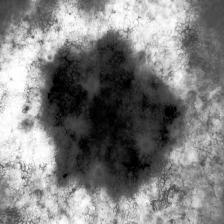Benign Marking or Mole: (43, 35, 183, 192)
